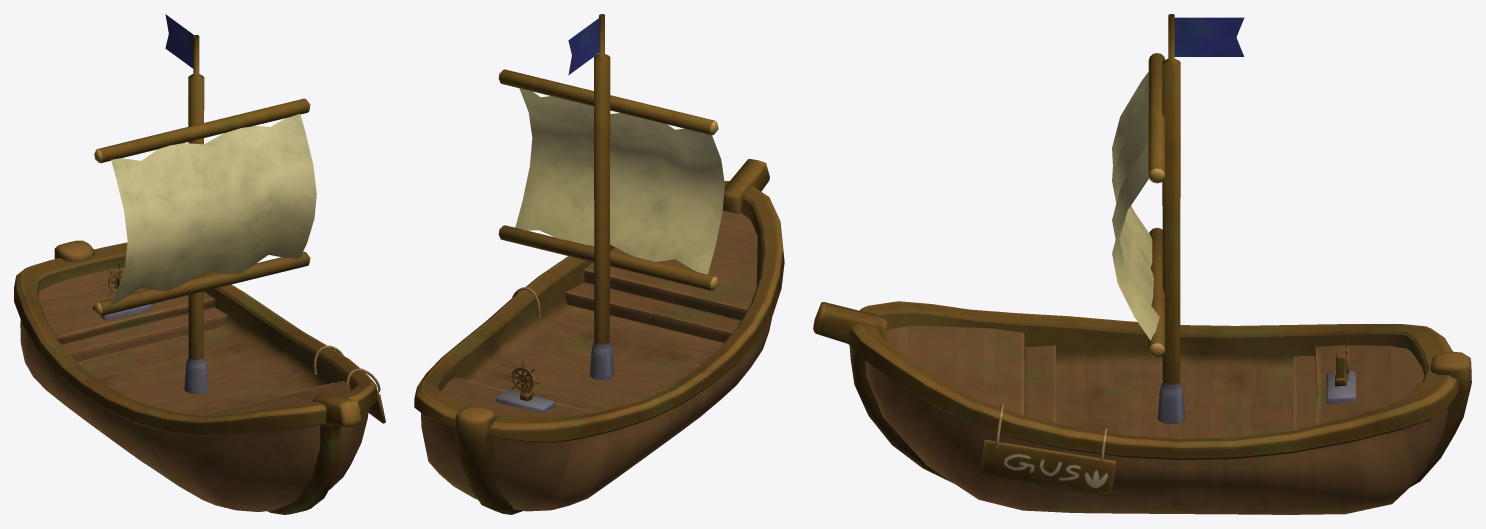
The model's file is ship2_asset.fbx.
3 renders of one model, left to right at view 1: azimuth 30°, elevation 25°; view 2: azimuth 150°, elevation 25°; view 3: azimuth 270°, elevation 25°, orthographic. The views are drawn at different scales.
Parts seen in each view (by area): view 1: Cube.001, Plane, Cube.005, Cylinder.001, Cube.002, Cylinder, Cylinder.002, Cube.004, Plane.001, Cube.003; view 2: Cube.001, Plane, Cube.004, Cylinder, Cube.003, Cylinder.002, Cylinder.001, Cube.005, Cube.002, Plane.001, Cube.006, Torus.001; view 3: Cube.001, Cube.004, Plane, Cube.005, Cylinder, Cube, Cube.002, Plane.001, Cube.003, Cylinder.001, Cylinder.002, Cube.006.
Part boxes in pixels (x1,y1,x2,y2): Cube.001: [14, 242, 377, 511]; Plane: [111, 114, 316, 304]; Cube.005: [38, 267, 227, 362]; Cylinder.001: [94, 98, 310, 163]; Cube.002: [267, 394, 361, 514]; Cylinder: [184, 35, 208, 394]; Cylinder.002: [94, 251, 310, 316]; Cube.004: [200, 381, 350, 415]; Plane.001: [165, 14, 196, 68]; Cube.003: [54, 240, 94, 262]; Cube.001: [414, 181, 784, 511]; Plane: [515, 88, 724, 274]; Cube.004: [565, 210, 757, 342]; Cylinder: [590, 14, 614, 379]; Cube.003: [455, 406, 522, 514]; Cylinder.002: [498, 225, 718, 290]; Cylinder.001: [498, 69, 718, 135]; Cube.005: [442, 377, 596, 416]; Cube.002: [722, 159, 769, 214]; Plane.001: [568, 18, 599, 75]; Cube.006: [495, 390, 555, 412]; Torus.001: [505, 361, 540, 397]; Cube.001: [850, 301, 1459, 514]; Cube.004: [886, 325, 1055, 422]; Plane: [1112, 72, 1159, 340]; Cube.005: [1294, 345, 1424, 429]; Cylinder: [1157, 14, 1185, 424]; Cube: [979, 439, 1116, 496]; Cube.002: [813, 302, 953, 483]; Plane.001: [1174, 17, 1244, 56]; Cube.003: [1411, 351, 1471, 486]; Cylinder.001: [1148, 53, 1165, 183]; Cylinder.002: [1148, 227, 1165, 358]; Cube.006: [1326, 371, 1356, 404].
Bounding box in the file's own units: 945 × 1670 × 2050.
2 materials, 2 textured.
